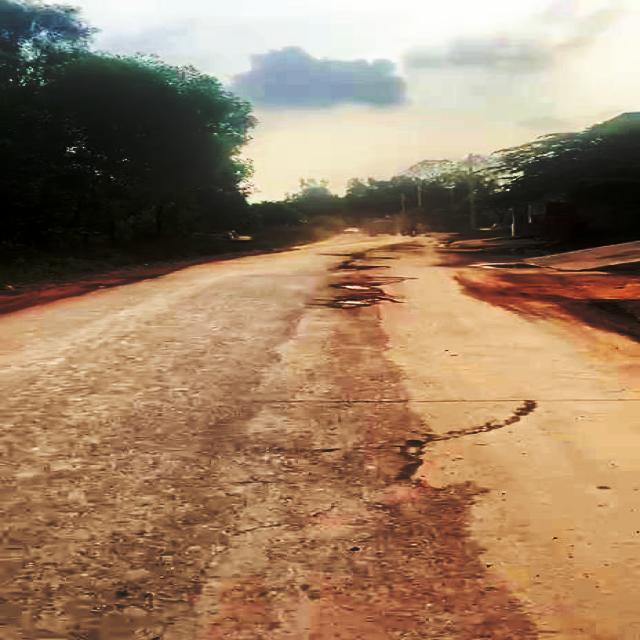pothole: (332, 295, 385, 310), (329, 280, 384, 292)
